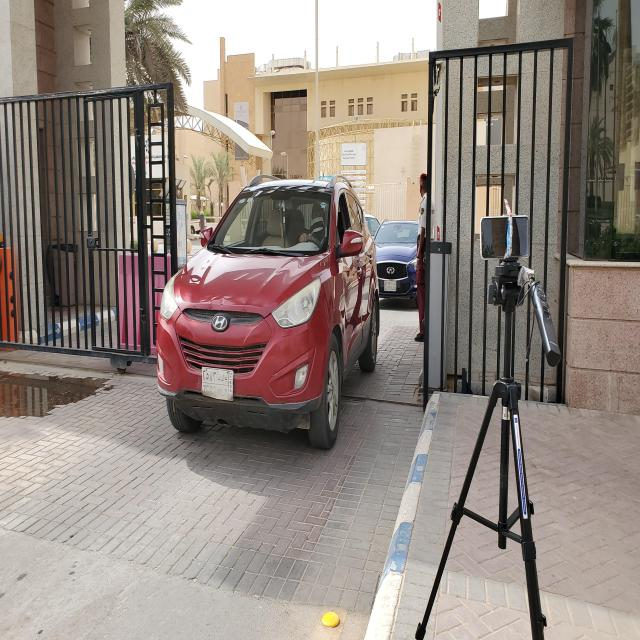license_plate: (200, 362, 238, 409), (384, 280, 396, 292)
